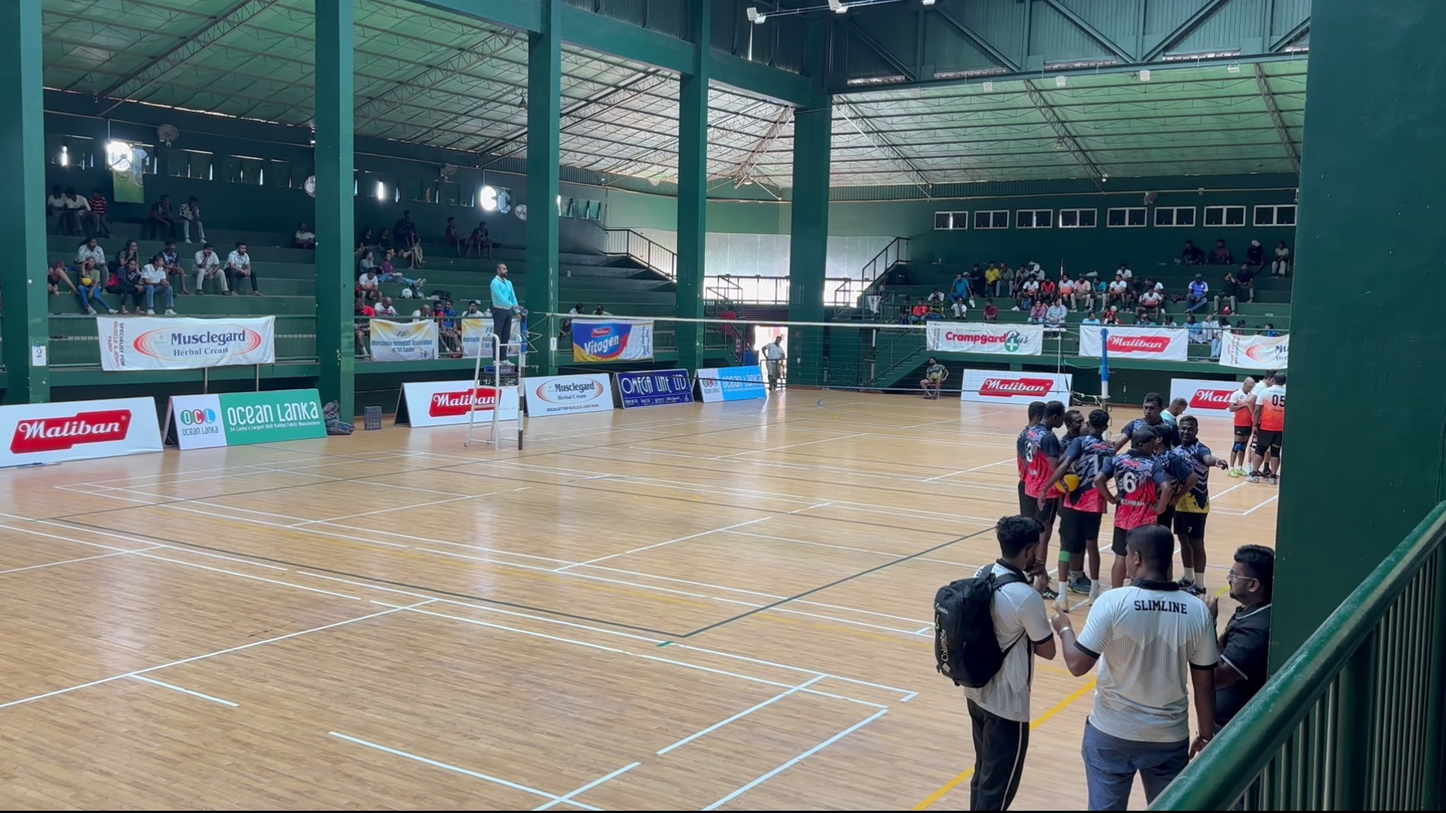Ball: (487, 258, 529, 370)
Payer_B: (1056, 411, 1116, 592), (1108, 430, 1165, 588), (1160, 418, 1213, 585), (1018, 404, 1063, 551)
